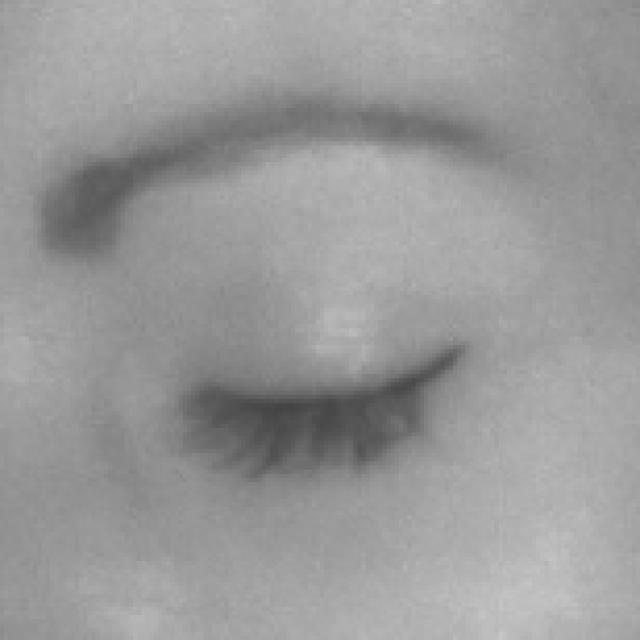close: (17, 52, 551, 544)
